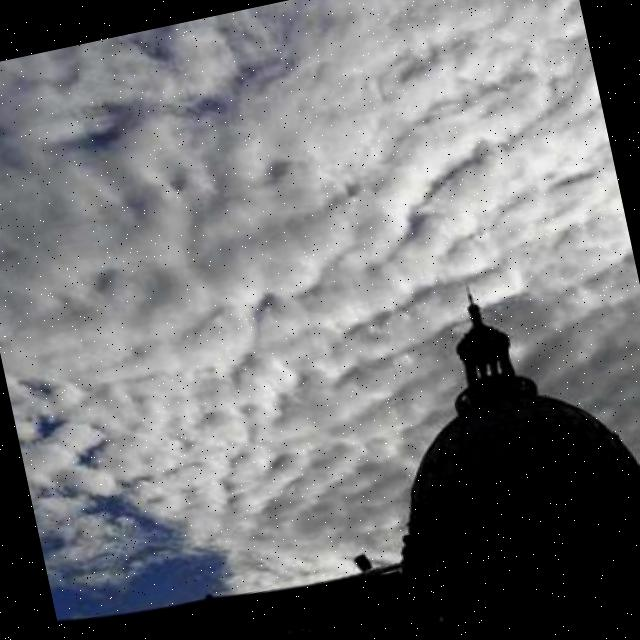Ac: (1, 1, 630, 369)
